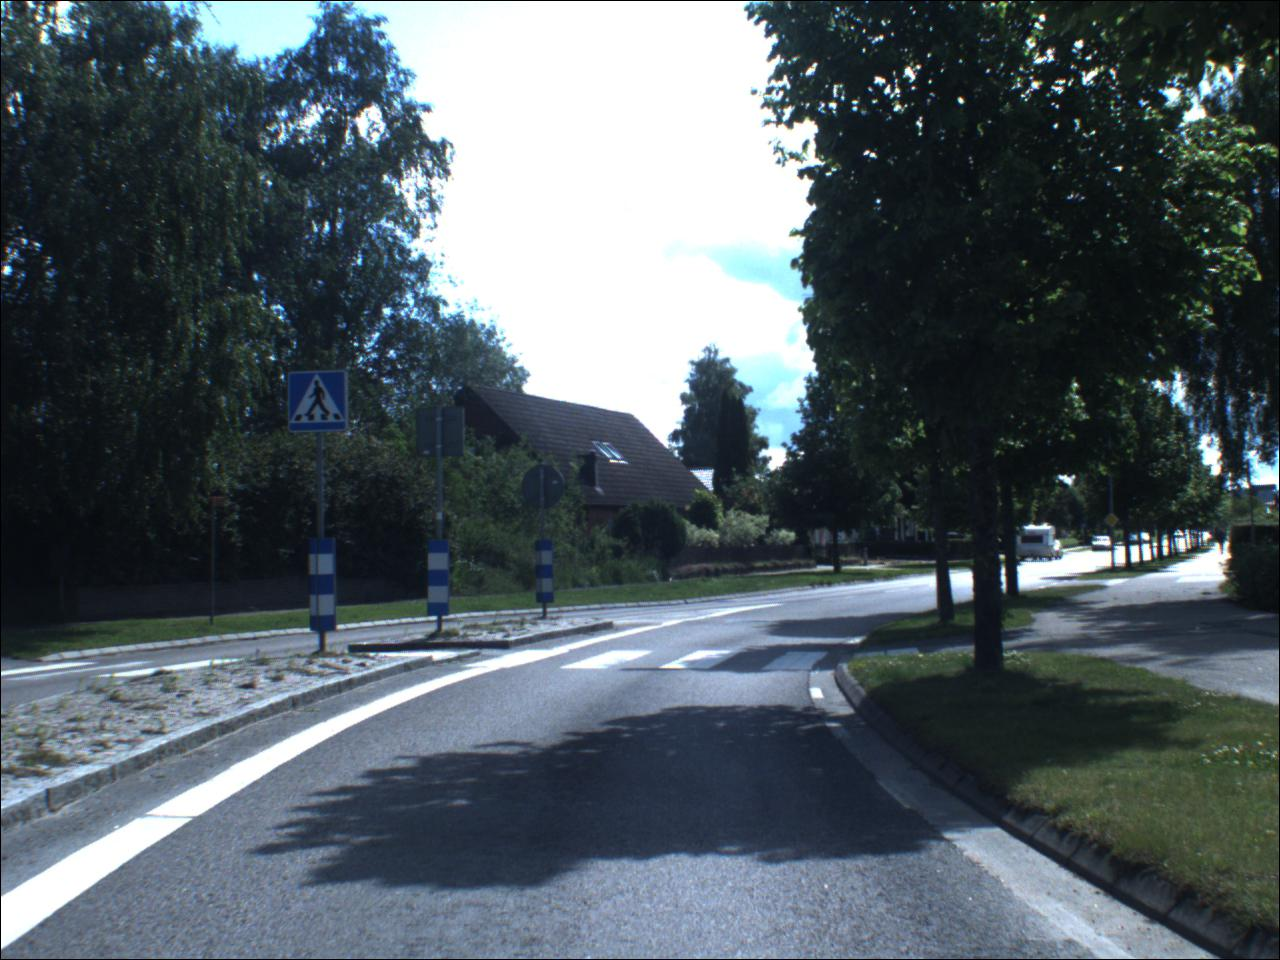PEDESTRIAN_CROSSING: (292, 374, 351, 434)
PRIORITY_ROAD: (1105, 515, 1122, 529)
